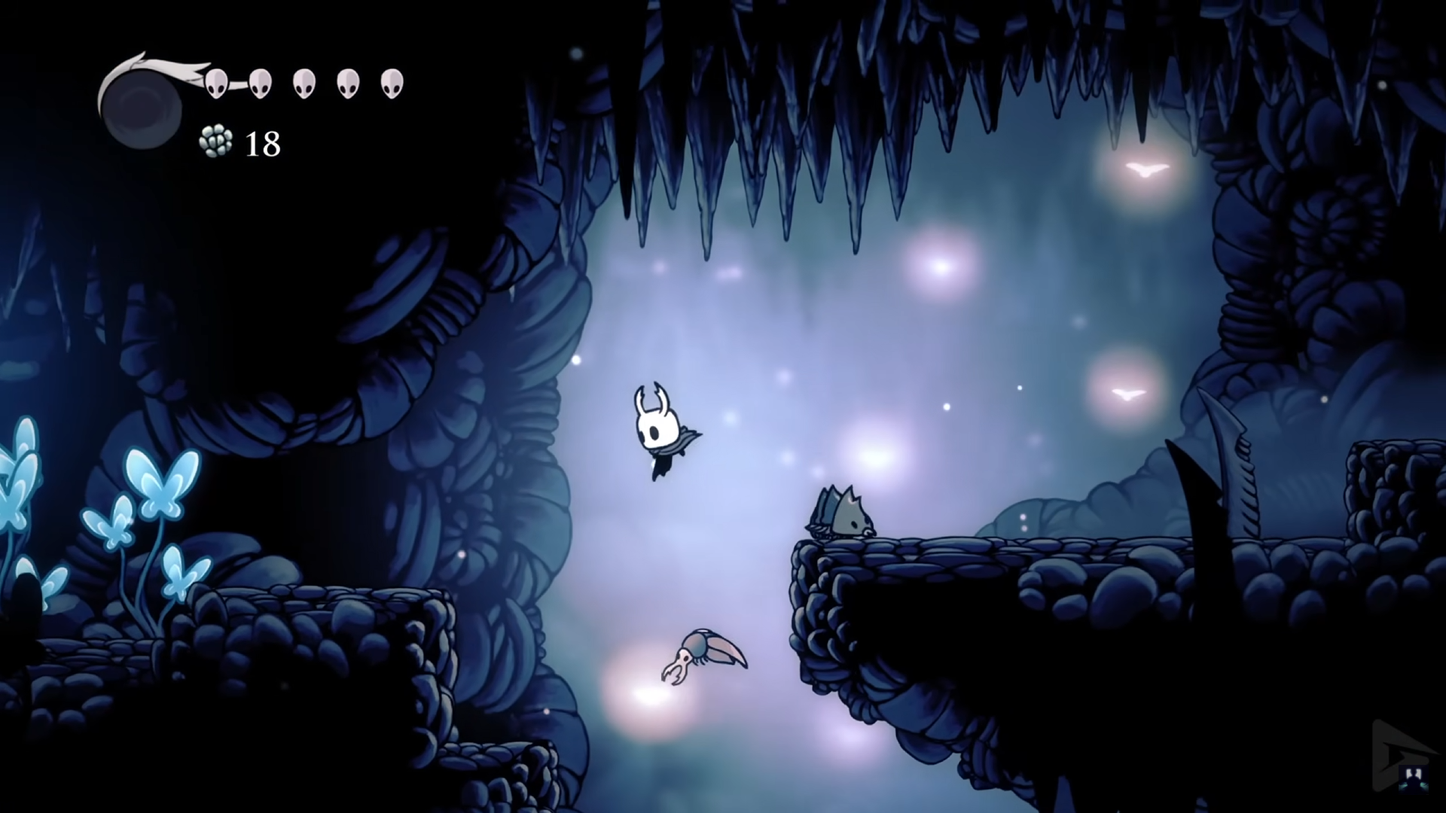HK: (630, 380, 689, 483)
